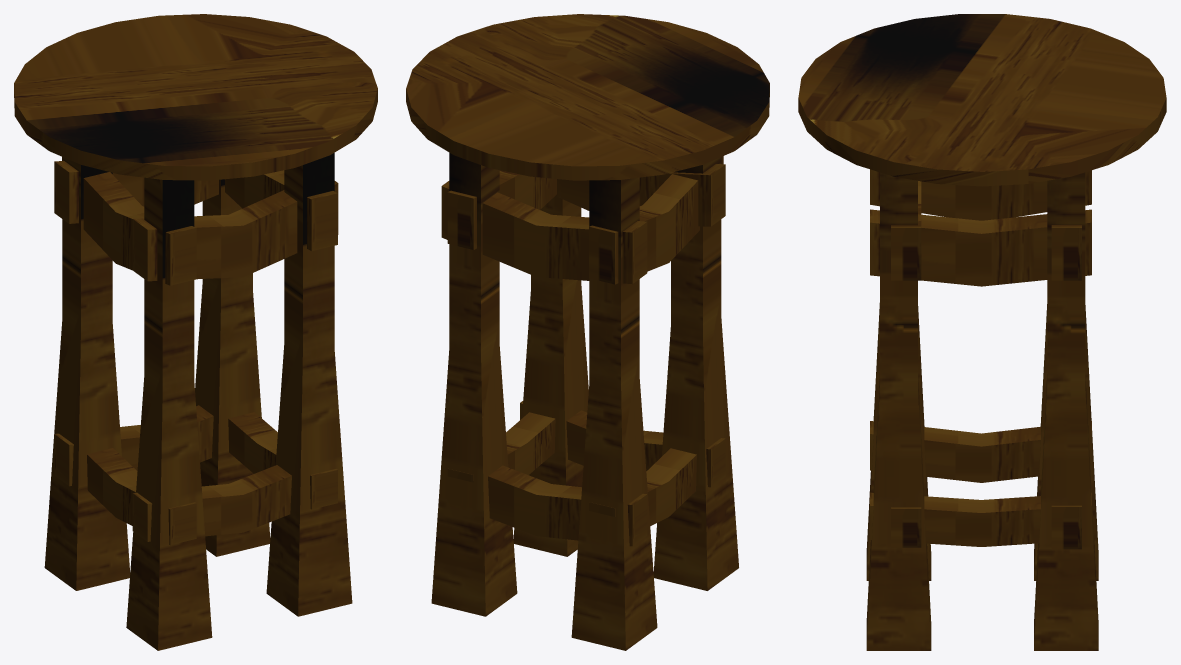
File: taburete.fbx
3 renders of one model, left to right at view 1: azimuth 30°, elevation 25°; view 2: azimuth 150°, elevation 25°; view 3: azimuth 270°, elevation 25°, orthographic. The views are drawn at different scales.
Visible parts, largest first — view 1: taburete_UVSOPEN_pCube176; view 2: taburete_UVSOPEN_pCube176; view 3: taburete_UVSOPEN_pCube176.
Boxes of the visible parts, x1,y1,x2,y2 form: taburete_UVSOPEN_pCube176: (14, 14, 377, 650); taburete_UVSOPEN_pCube176: (406, 14, 769, 650); taburete_UVSOPEN_pCube176: (798, 14, 1166, 650).
Bounding box in the file's own units: 5.7 × 8.56 × 5.62.
